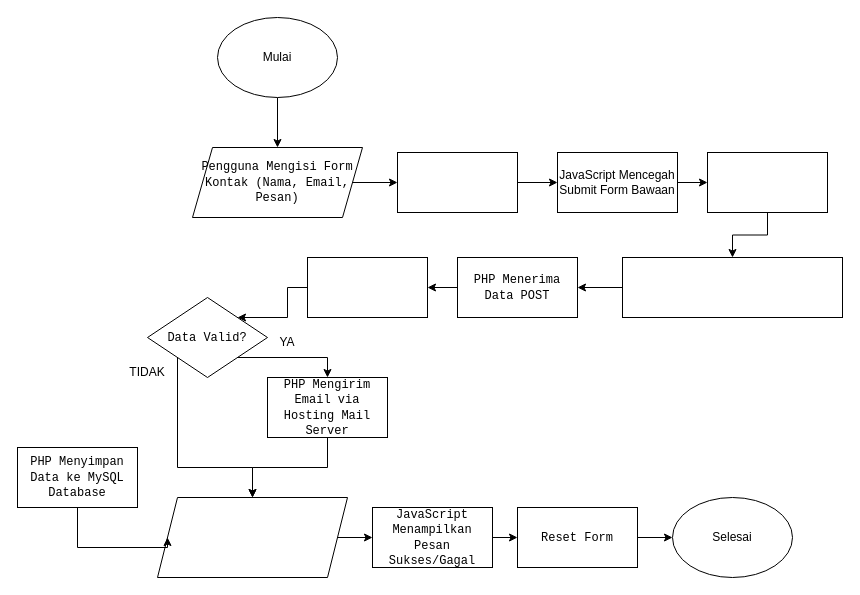
This 860x595 diagram has some shape labels left out. Each missing label, with the centre of its shape:
"JavaScript Mengirim Data via Fetch API (POST ke send_email.php)" goes at point 732,287.
"JavaScript Mengumpulkan Data Form (FormData)" goes at point 767,182.
"Pengguna Klik 'Kirim Pesan'" goes at point 457,182.
"PHP Melakukan Validasi & Sanitasi Data" goes at point 367,287.
"PHP Mengembalikan Respons JSON (Status & Pesan)" goes at point 252,537.
